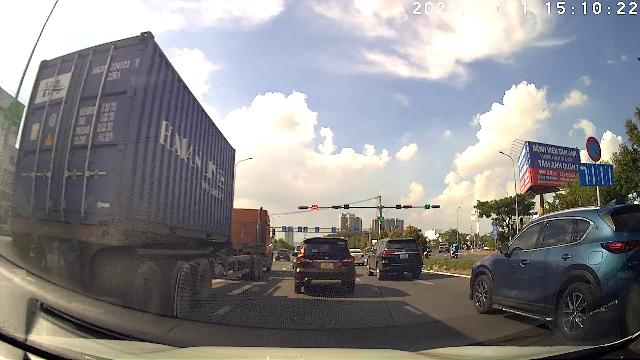131a-cam-do-xe: (586, 136, 602, 162)
